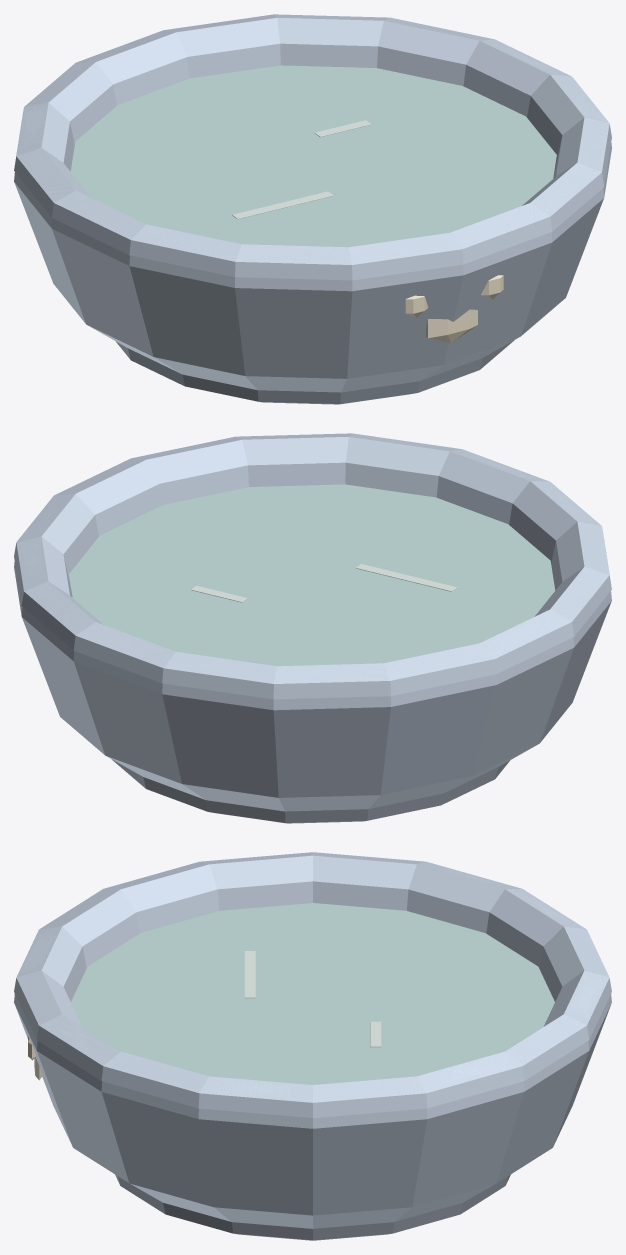
File: crafted-cat-water-1-2.glb
3 views of the same model, one above another, from view 1: azimuth 30°, elevation 25°; view 2: azimuth 150°, elevation 25°; view 3: azimuth 270°, elevation 25° (orthographic).
Visible parts, largest first — view 1: ceramic-bowl, water-level, glazed-rim, foot-ring, paw-pad, water-glint; view 2: ceramic-bowl, water-level, glazed-rim, foot-ring, water-glint; view 3: ceramic-bowl, water-level, glazed-rim, foot-ring, water-glint.
Part boxes in pixels (x1,y1,x2,y2): ceramic-bowl: [14, 14, 611, 392]; water-level: [70, 65, 556, 247]; glazed-rim: [14, 14, 611, 280]; foot-ring: [116, 340, 514, 404]; paw-pad: [426, 309, 477, 343]; water-glint: [232, 191, 333, 219]; ceramic-bowl: [14, 433, 611, 811]; water-level: [69, 484, 555, 666]; glazed-rim: [14, 433, 611, 699]; foot-ring: [111, 759, 509, 823]; water-glint: [356, 564, 457, 591]; ceramic-bowl: [14, 852, 611, 1228]; water-level: [71, 903, 554, 1084]; glazed-rim: [14, 852, 611, 1117]; foot-ring: [115, 1174, 510, 1240]; water-glint: [244, 951, 255, 998].
Size of the model in its own units: 0.76 by 0.265 by 0.76.
